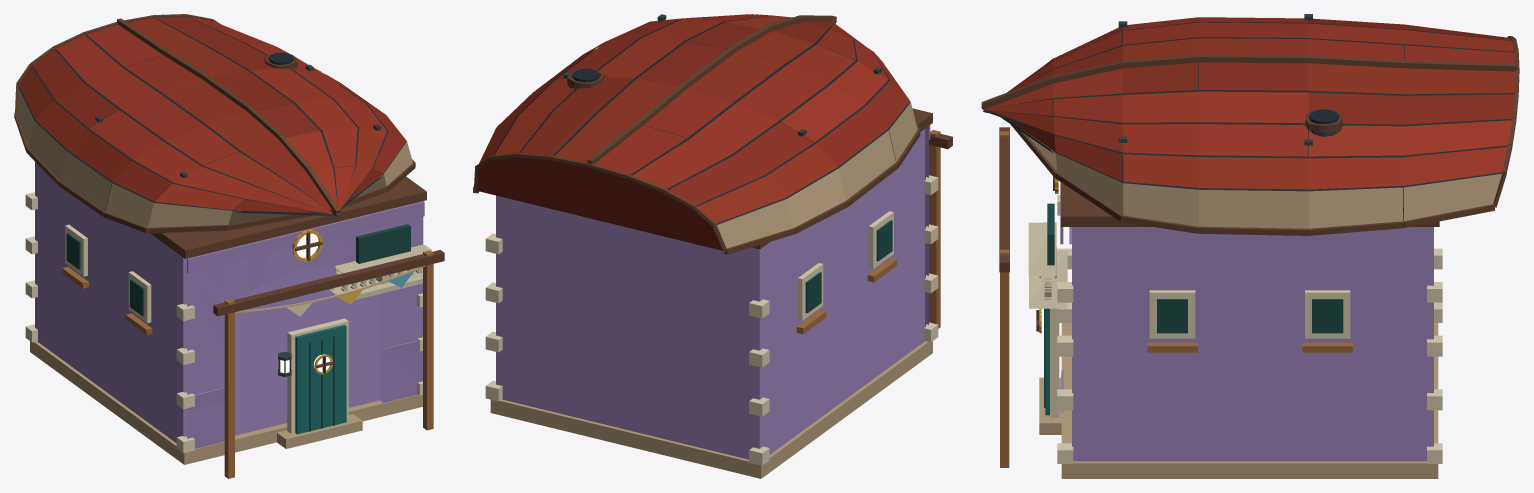
Rendered from boat-shop-large-lilac.glb.
The picture shows the model from 3 angles, left to right: view 1: azimuth 30°, elevation 25°; view 2: azimuth 150°, elevation 25°; view 3: azimuth 270°, elevation 25°; orthographic projection. The views are drawn at different scales.
Visible parts, largest first — view 1: boat-shop-large-lilac; view 2: boat-shop-large-lilac; view 3: boat-shop-large-lilac.
Boxes of the visible parts, x1,y1,x2,y2 form: boat-shop-large-lilac: (14, 14, 444, 478); boat-shop-large-lilac: (473, 14, 952, 478); boat-shop-large-lilac: (981, 14, 1519, 478).
Size of the model in its own units: 5.71 by 5.36 by 7.44.
